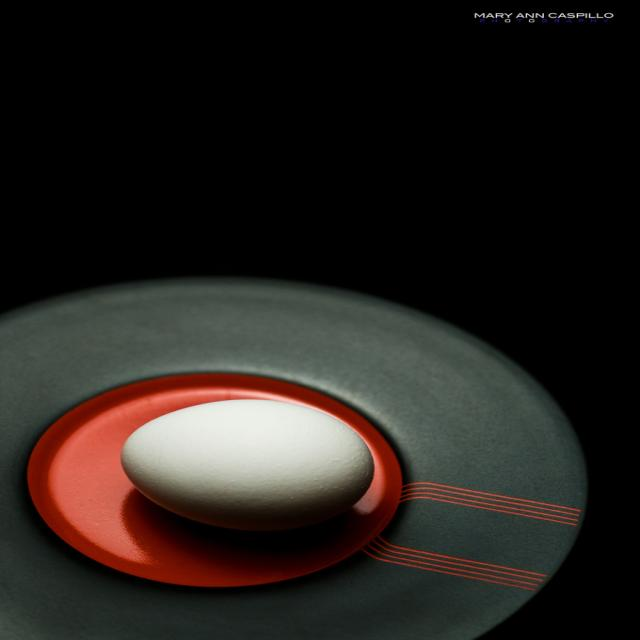Egg: (116, 398, 377, 534)
